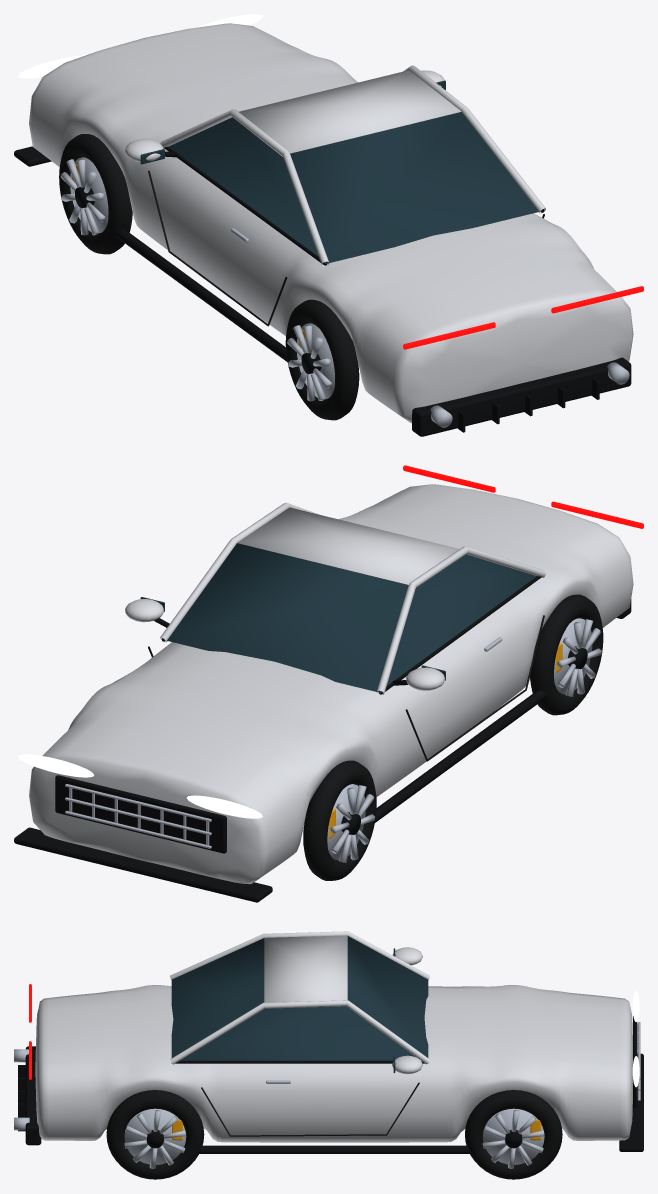
File: deccan-coupe.glb
3 views of the same model, one above another, from view 1: azimuth 30°, elevation 25°; view 2: azimuth 150°, elevation 25°; view 3: azimuth 270°, elevation 25° (orthographic). The views are drawn at different scales.
Parts seen in each view (by area): view 1: Surface_Paint, Surface_Glazing, Surface_Carbon, Tire, Tire.001, Rim_lip.001, Rim_lip, Surface_Tailights, Surface_Headlights, Surface_Alloy, Surface_Panel_seams; view 2: Surface_Paint, Surface_Glazing, Surface_Carbon, Tire.001, Tire, Surface_Alloy, Rim_lip, Rim_lip.001, Surface_Headlights, Surface_Tailights, Surface_Panel_seams; view 3: Surface_Paint, Surface_Glazing, Surface_Carbon, Tire.003, Tire.002, Rim_lip.002, Rim_lip.003, Surface_Alloy, Surface_Panel_seams, Surface_Headlights.
Boxes of the visible parts, box(x1,y1,x2,y2) form: Surface_Paint: box(29, 23, 633, 423); Surface_Glazing: box(140, 80, 542, 263); Surface_Carbon: box(14, 146, 631, 436); Tire: box(285, 299, 359, 420); Tire.001: box(59, 134, 132, 254); Rim_lip.001: box(60, 157, 108, 235); Rim_lip: box(287, 323, 334, 401); Surface_Tailights: box(403, 286, 643, 349); Surface_Headlights: box(18, 14, 262, 78); Surface_Alloy: box(231, 228, 629, 427); Surface_Panel_seams: box(148, 170, 544, 326); Surface_Paint: box(29, 484, 633, 884); Surface_Glazing: box(140, 543, 536, 692); Surface_Carbon: box(14, 576, 631, 902); Tire.001: box(303, 760, 376, 880); Tire: box(530, 594, 603, 715); Surface_Alloy: box(65, 637, 502, 848); Rim_lip: box(554, 618, 601, 696); Rim_lip.001: box(327, 784, 375, 862); Surface_Headlights: box(18, 754, 262, 818); Surface_Tailights: box(403, 465, 643, 528); Surface_Panel_seams: box(148, 615, 544, 761); Surface_Paint: box(35, 931, 632, 1142); Surface_Glazing: box(171, 936, 428, 1072); Surface_Carbon: box(18, 1016, 643, 1153); Tire.003: box(465, 1090, 562, 1179); Tire.002: box(106, 1090, 204, 1179); Rim_lip.002: box(124, 1108, 186, 1168); Rim_lip.003: box(482, 1108, 544, 1168); Surface_Alloy: box(14, 1022, 640, 1130); Surface_Panel_seams: box(201, 1082, 419, 1136); Surface_Headlights: box(632, 991, 639, 1087).
Size of the model in its own units: 2.21 by 1.42 by 4.84.
